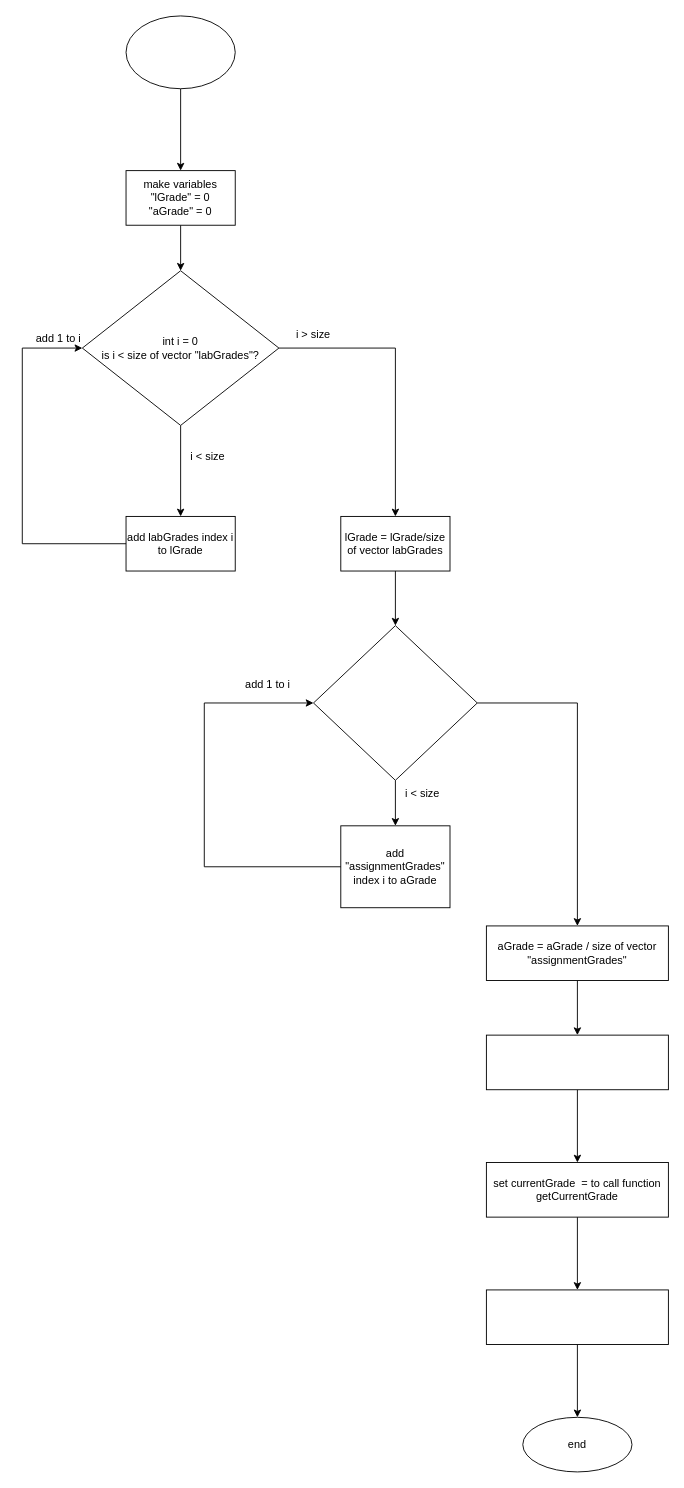
The diagram is 684 pixels wide and 1488 high, and some of its shapes have lost their labels. Here are the shapes that lost their labels. From the top down, the centre of each, then its label:
point 180,52: start
point 395,702: int i = 0 is int i < size of vector "assignmentGrades"?
point 576,1062: call function weightGrades
point 576,1317: set maxGradeAchievable = to call function getMaxGradeAchieveable
